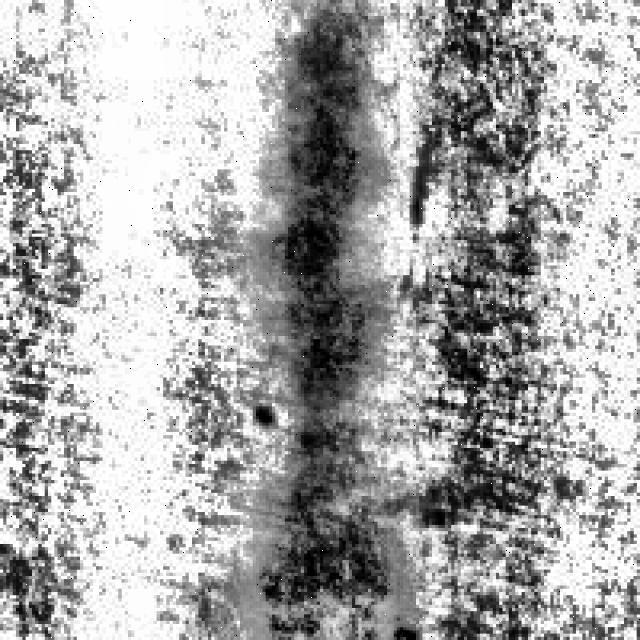Scratches: (268, 3, 394, 403), (250, 451, 422, 637)
